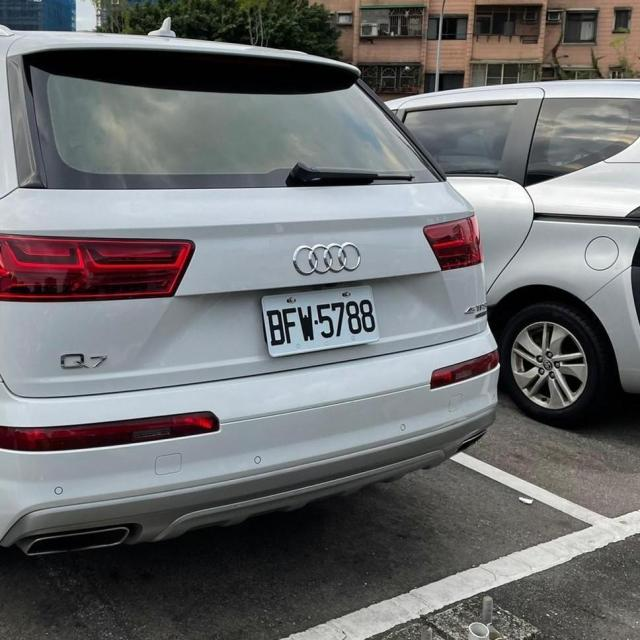W: (260, 282, 382, 360)
